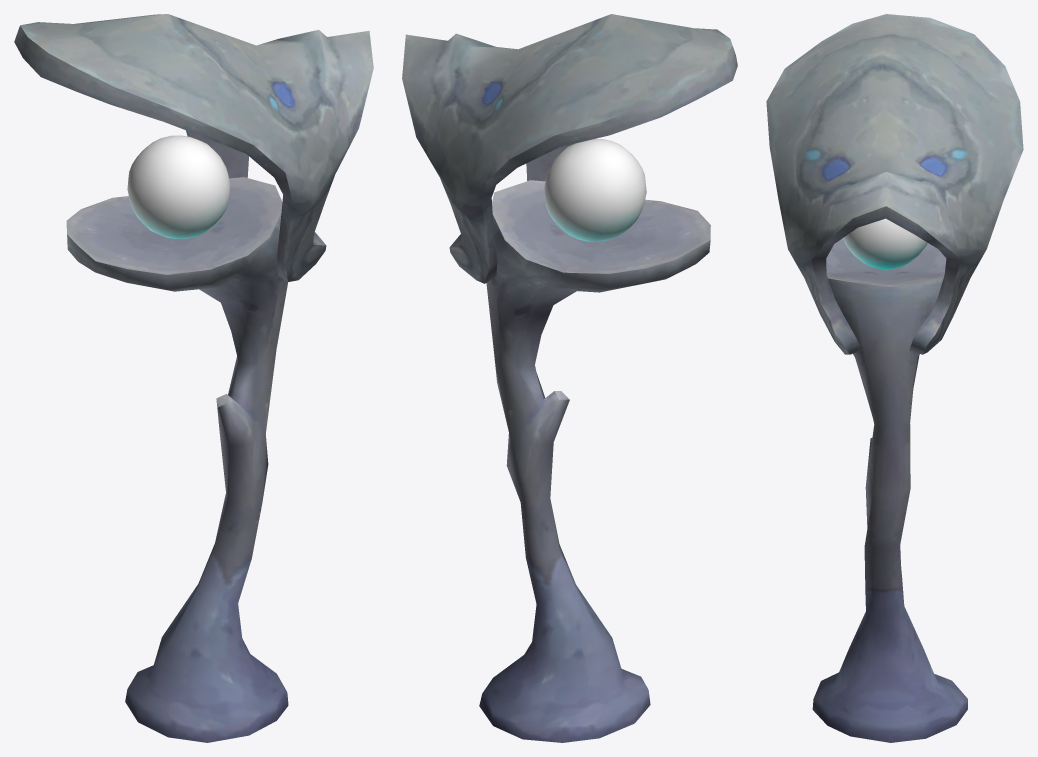
The model's file is Homeworld_Exterior_Fd_Lamp_Light_RycDeng_02_Vo.fbx.
3 views of the same model, side by side, from view 1: azimuth 30°, elevation 25°; view 2: azimuth 150°, elevation 25°; view 3: azimuth 270°, elevation 25° (orthographic). The views are drawn at different scales.
Parts seen in each view (by area): view 1: Area_Fd_Light_RYC_Deng_04_Vo, Lampshade_01; view 2: Area_Fd_Light_RYC_Deng_04_Vo, Lampshade_01; view 3: Area_Fd_Light_RYC_Deng_04_Vo, Lampshade_01.
Boxes of the visible parts, box(x1,y1,x2,y2) form: Area_Fd_Light_RYC_Deng_04_Vo: box(14, 14, 373, 742); Lampshade_01: box(127, 135, 230, 238); Area_Fd_Light_RYC_Deng_04_Vo: box(402, 14, 737, 742); Lampshade_01: box(544, 139, 646, 241); Area_Fd_Light_RYC_Deng_04_Vo: box(766, 14, 1023, 742); Lampshade_01: box(843, 218, 927, 269).
Size of the model in its own units: 0.9387 by 1.92 by 0.7032.
